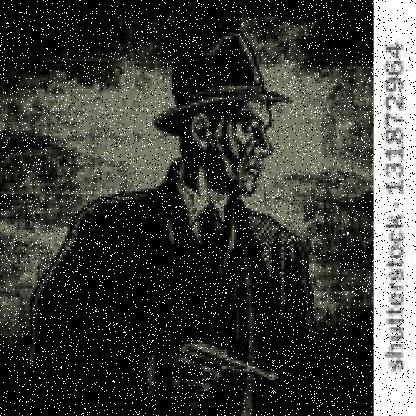pistol: (162, 327, 279, 405)
